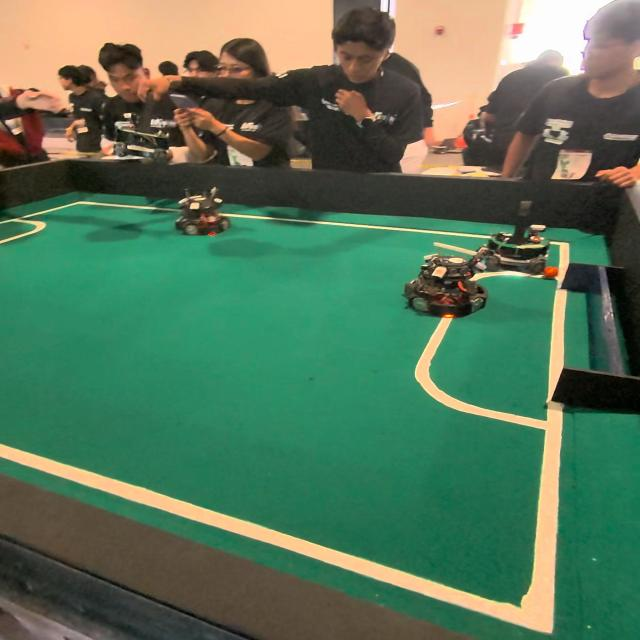Robot: (395, 249, 495, 323), (163, 180, 236, 236), (495, 198, 551, 258)
pelota: (532, 262, 561, 281)
